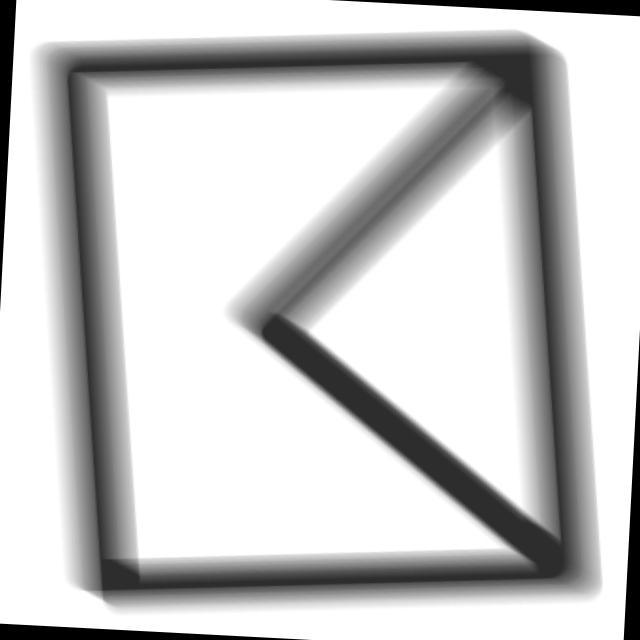letter: (1, 1, 635, 640)
